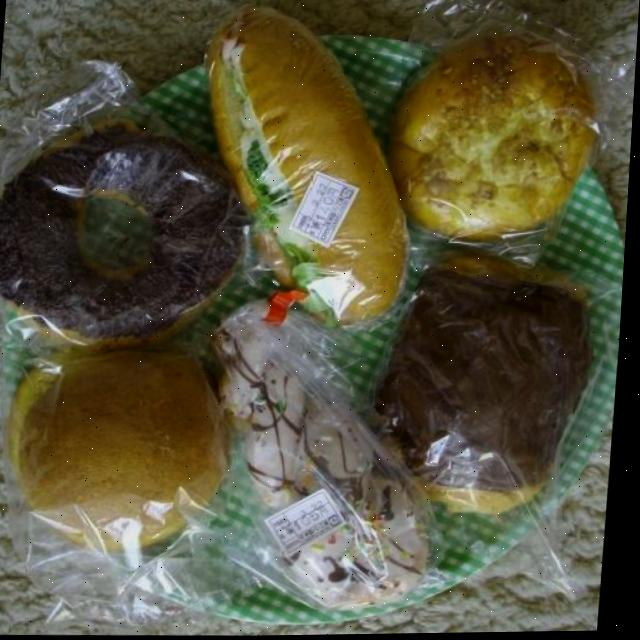三明治: (168, 0, 427, 334)
